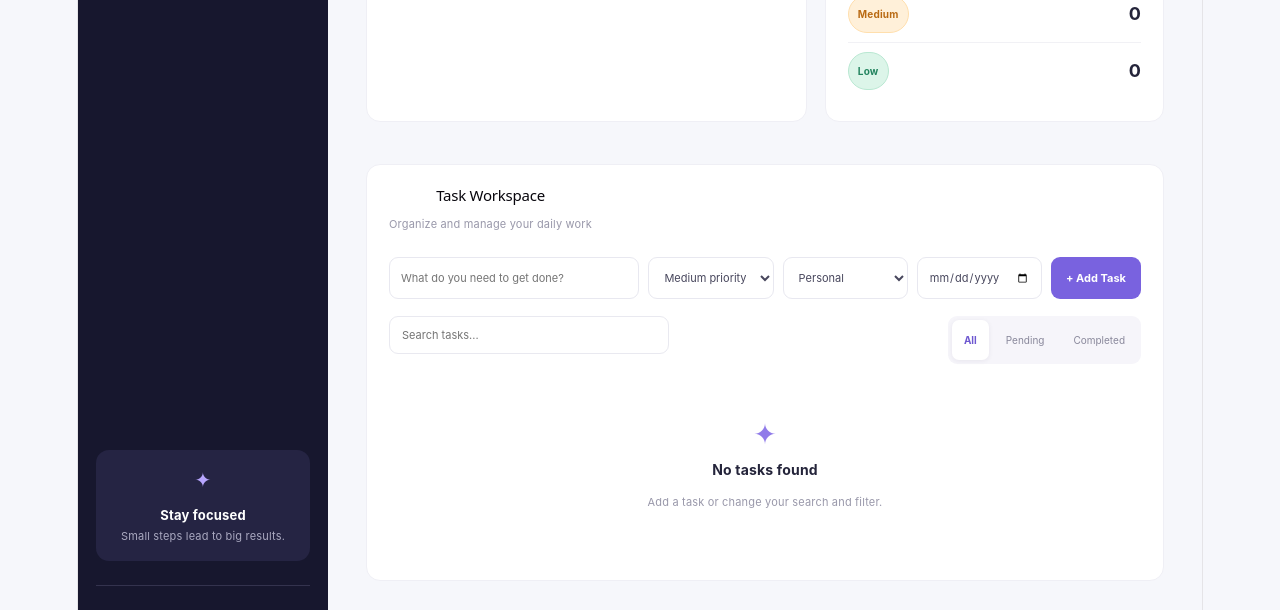
TaskOrbit Application › allows a user to edit a task
(page scrolled)
# Add an original task.
Type "Learn React" into the field with placeholder "What do you need to get done?" at {"x": 514, "y": 278}, box [389,257,639,299]
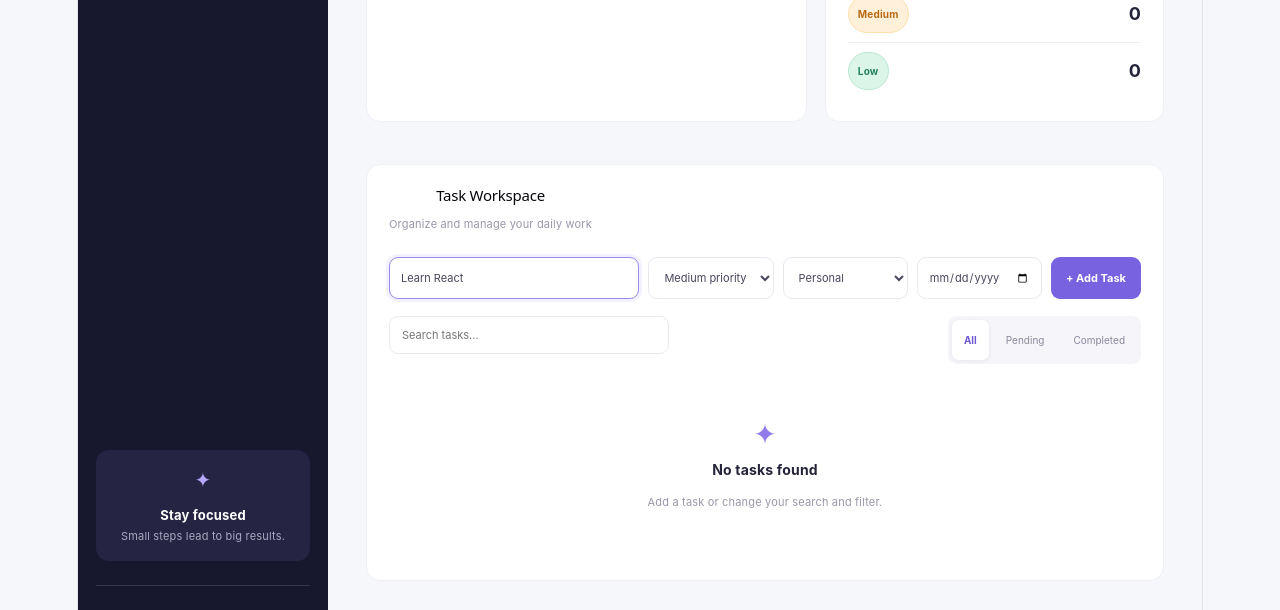
Click the button "+ Add Task" at {"x": 1096, "y": 278}, box [1051,257,1141,299]
(page scrolled)
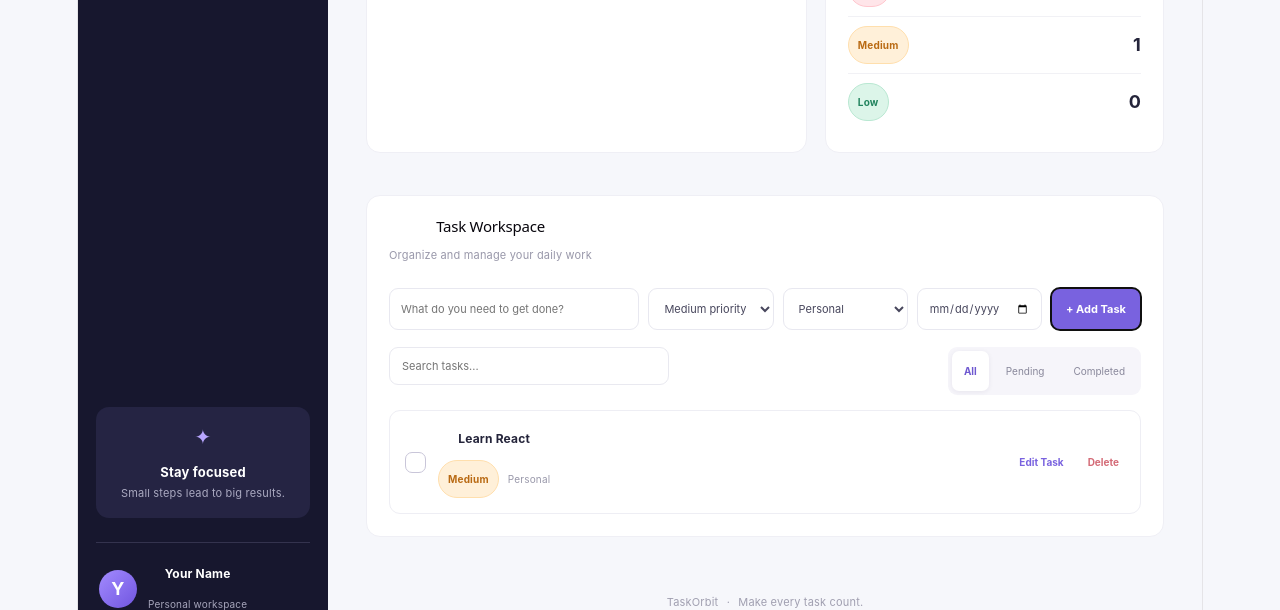
# Click the Edit Task button.
Click the button "Edit Task" at {"x": 1041, "y": 462}, box [1013,448,1070,476]
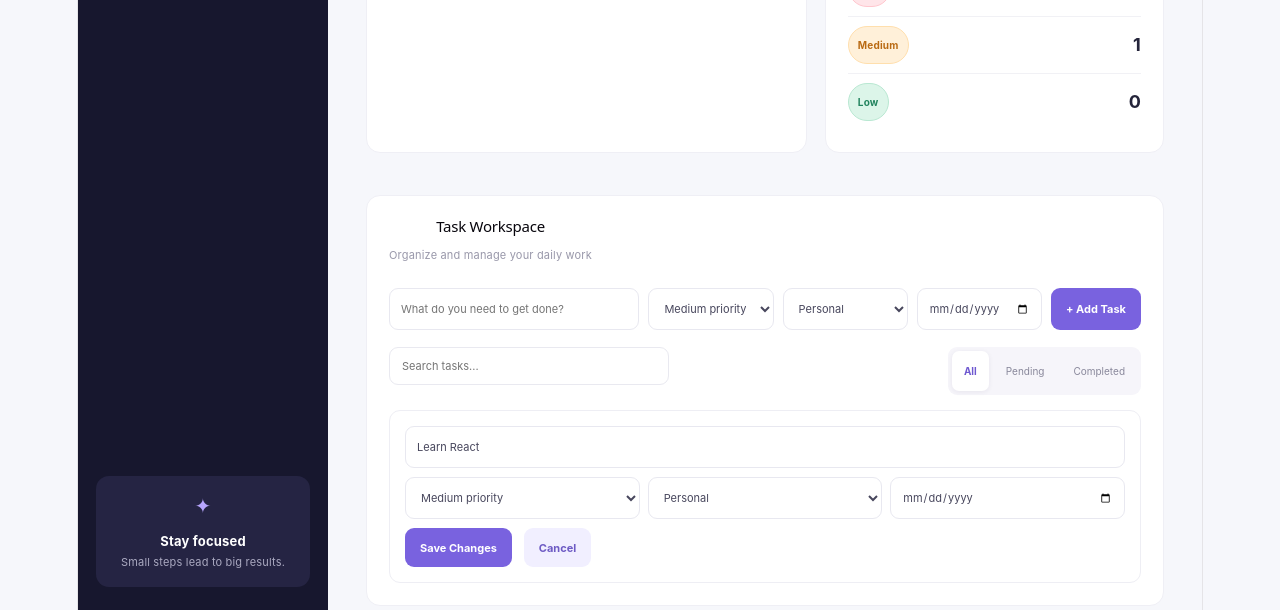
Replace the text in the field with placeholder "Task title" with "Learn React and Testing" at {"x": 765, "y": 447}, box [405,426,1125,468]
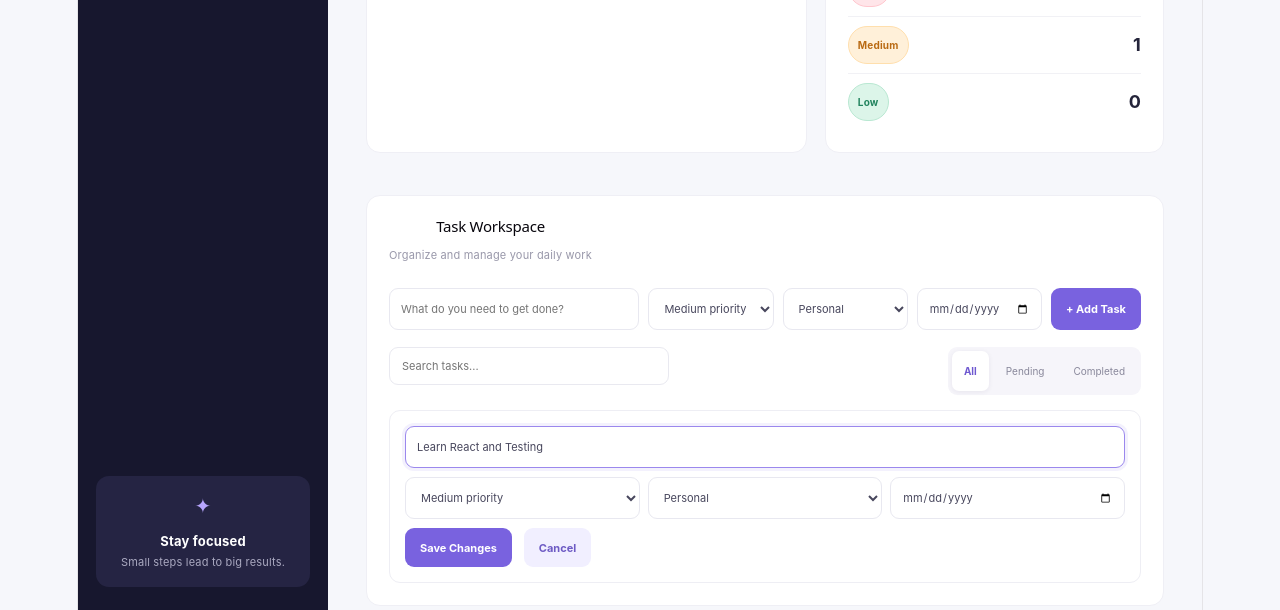
# Save the changes.
Click the button "Save Changes" at {"x": 458, "y": 548}, box [405,528,512,567]
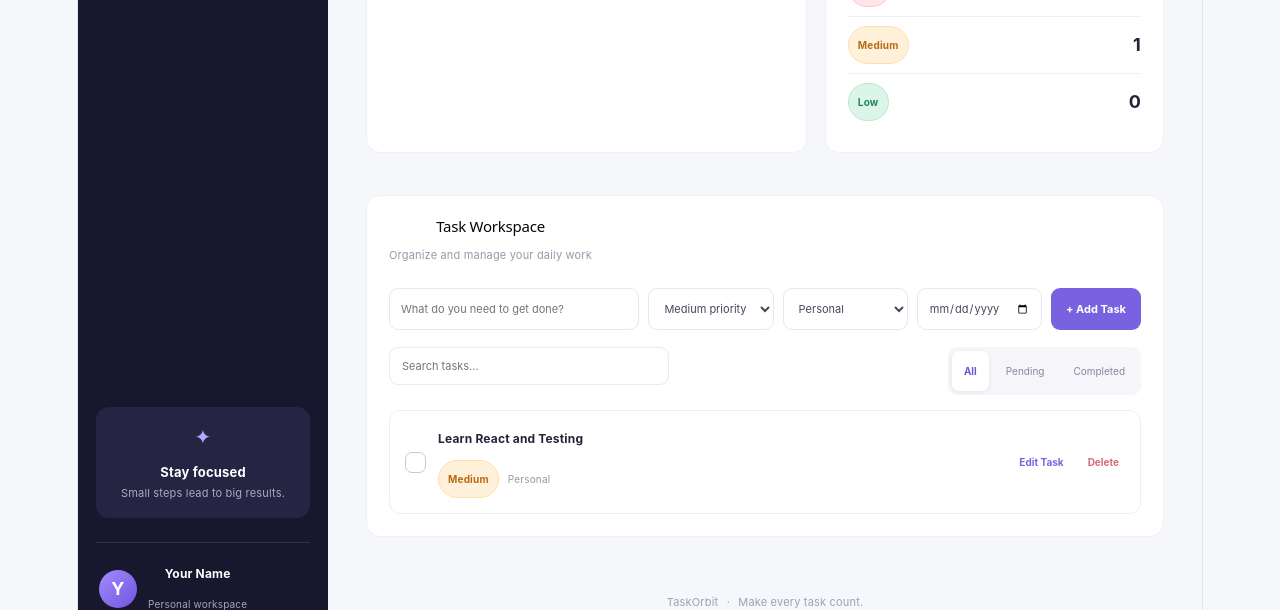
Now the heading "Learn React and Testing" is shown, box [438,431,583,446]
